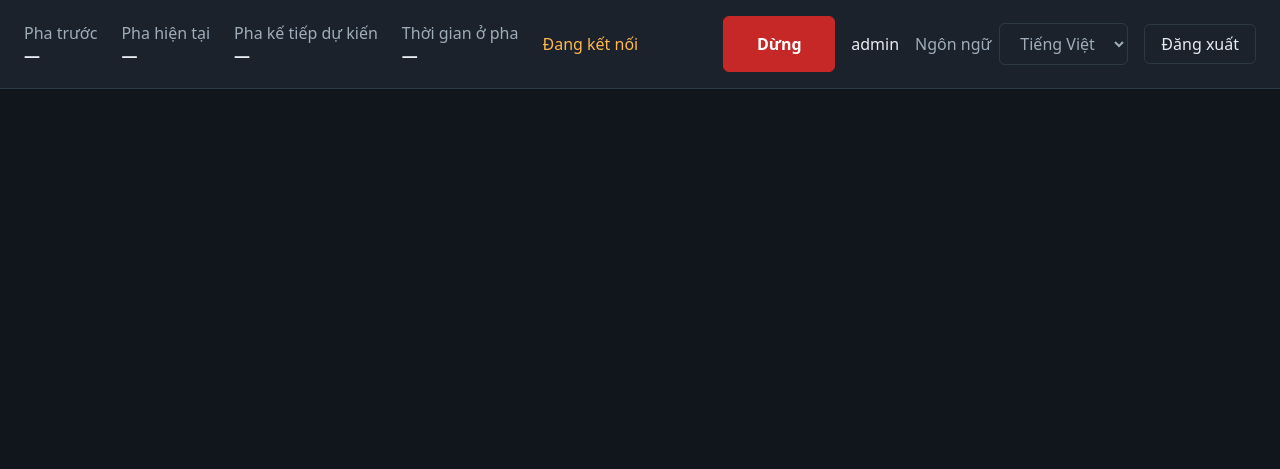
Test case: Stop › returns to the login form when Stop finds the session expired
The image size is (1280, 469).
Click the button "Dừng" at (779, 44), box [723,16,835,72]
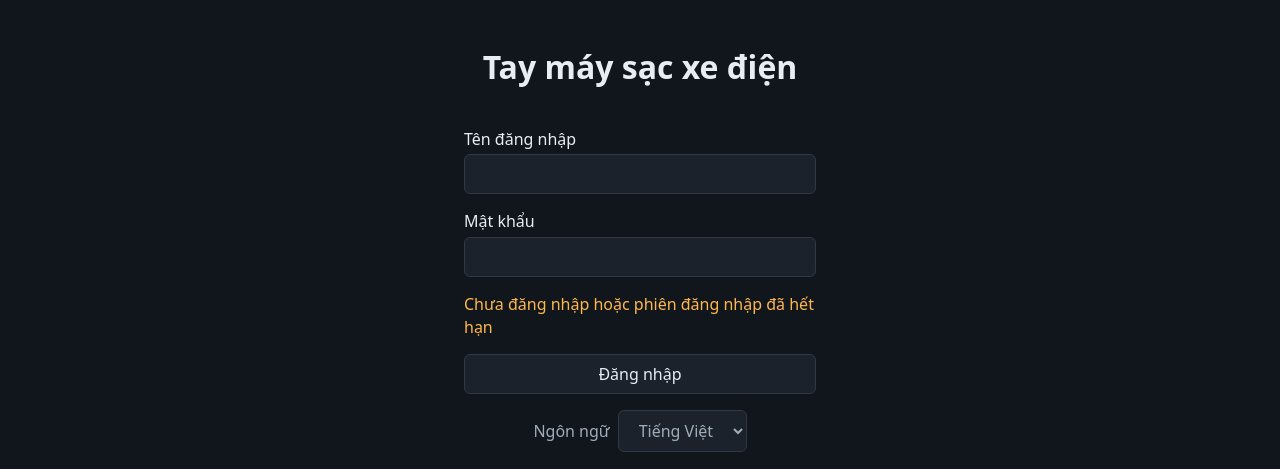
Expected: the message reads "Chưa đăng nhập hoặc phiên đăng nhập đã hết hạn", [464,293,814,338]
